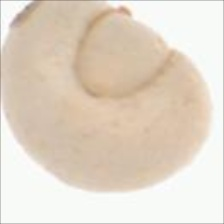L5: (70, 5, 177, 102)
L6: (1, 1, 214, 195)
